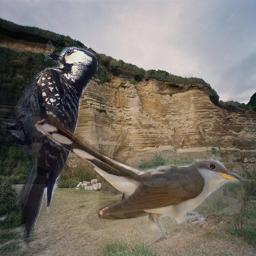Cuckoo: (32, 110, 247, 248)
Woodpecker: (1, 38, 98, 251)
